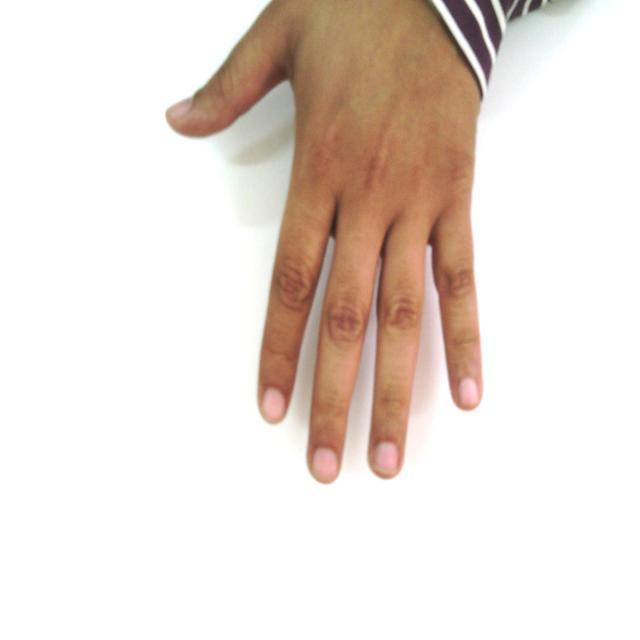Fingernail: (313, 448, 337, 482), (264, 389, 285, 422), (375, 443, 398, 473), (460, 379, 479, 408), (168, 101, 192, 120)
